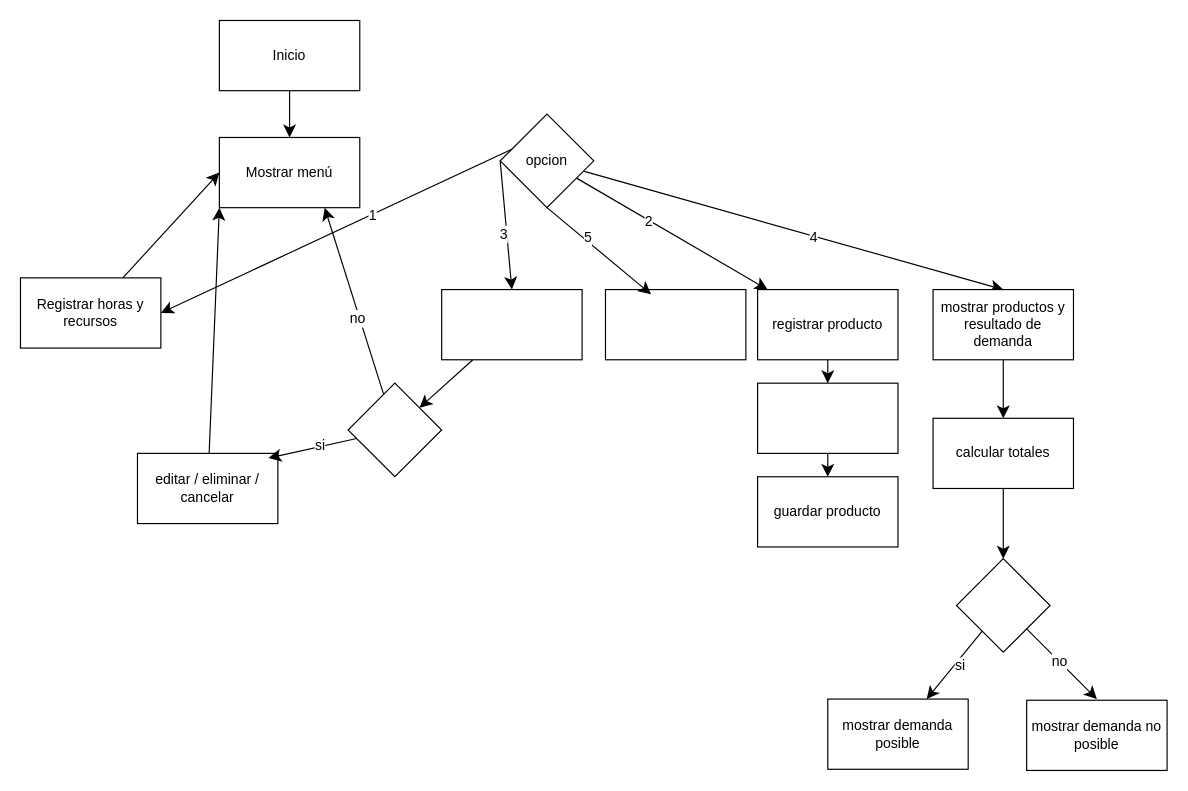
The diagram is 1188 pixels wide and 791 high, and some of its shapes have lost their labels. Here are the shapes that lost their labels. From the top down, the centre of each, then its label:
(x=511, y=324): Buscar producto
(x=675, y=324): salir
(x=394, y=429): ¿Encontrado?
(x=827, y=417): validar datos
(x=1002, y=605): ¿hay capacidad?
